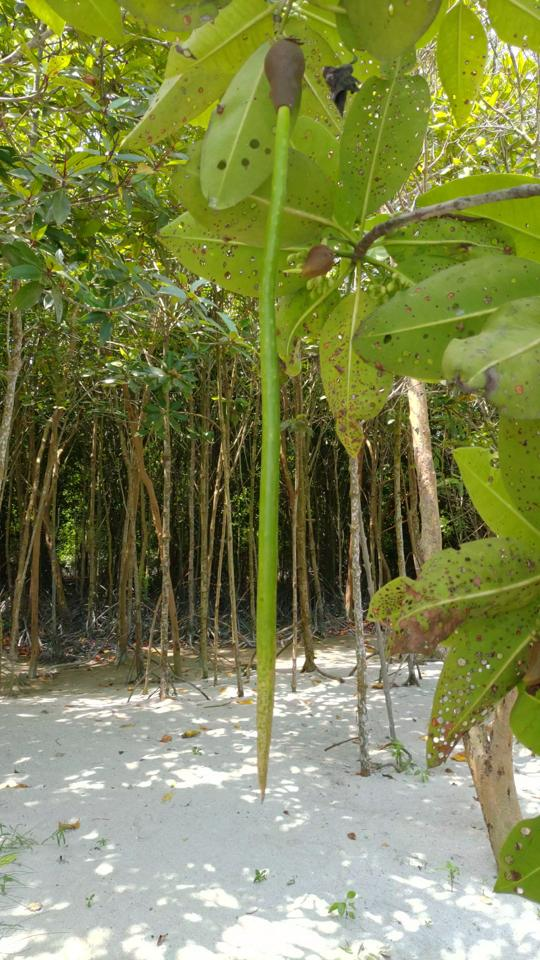mentah: (226, 10, 324, 814)
